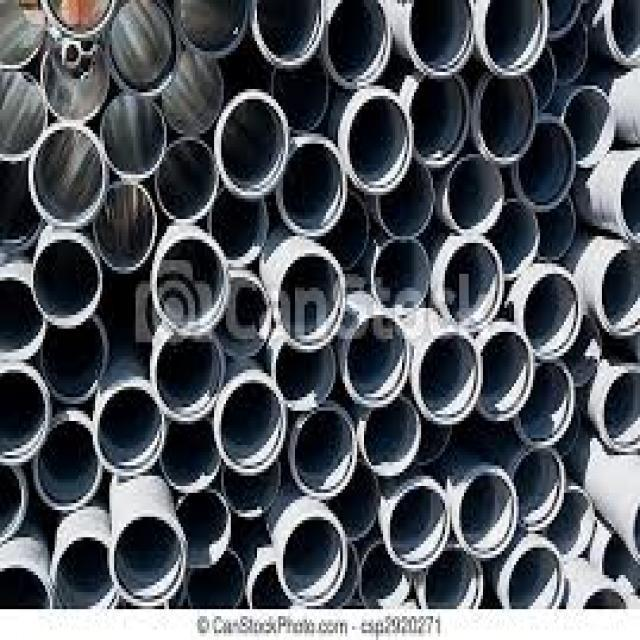pipe: (28, 122, 108, 230), (215, 87, 291, 200), (153, 229, 230, 337), (343, 92, 415, 198), (275, 246, 346, 352), (93, 379, 167, 479), (275, 136, 348, 237), (110, 510, 185, 606), (151, 330, 227, 424), (215, 374, 285, 476), (30, 233, 103, 329), (105, 2, 182, 93), (33, 413, 103, 513), (290, 401, 358, 502), (342, 313, 411, 411), (278, 509, 348, 605), (39, 313, 110, 407), (413, 329, 483, 424), (323, 0, 395, 91), (91, 179, 158, 274), (383, 477, 451, 570), (513, 116, 577, 213), (404, 0, 479, 80), (440, 238, 504, 331), (474, 73, 538, 166), (519, 267, 582, 361), (99, 94, 166, 182), (154, 137, 220, 225), (455, 466, 518, 558), (408, 74, 471, 166), (40, 40, 109, 122), (477, 325, 535, 420), (1, 362, 53, 466), (443, 153, 506, 238), (160, 48, 223, 133), (359, 397, 421, 478), (377, 154, 436, 238), (217, 271, 271, 362), (562, 84, 619, 170), (482, 0, 547, 75), (208, 187, 268, 268), (518, 356, 573, 444), (371, 237, 433, 315), (157, 418, 222, 492), (176, 487, 233, 571), (513, 445, 566, 534), (252, 0, 325, 64), (273, 342, 335, 415), (52, 534, 113, 608), (418, 542, 483, 610), (503, 540, 566, 610), (272, 56, 328, 131), (0, 70, 45, 163), (0, 273, 47, 362), (543, 485, 596, 562), (492, 198, 538, 286), (176, 2, 247, 58), (598, 247, 640, 340), (186, 548, 246, 611), (600, 365, 640, 455), (359, 538, 409, 606), (0, 0, 48, 69), (618, 154, 640, 245)
